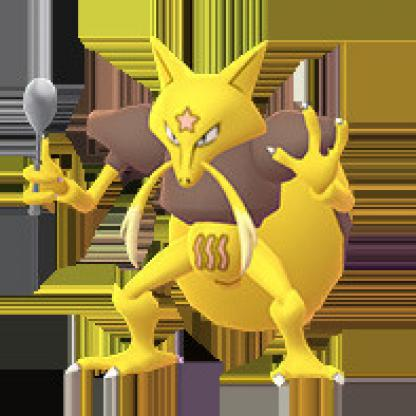Kadabra: (27, 39, 355, 392)
